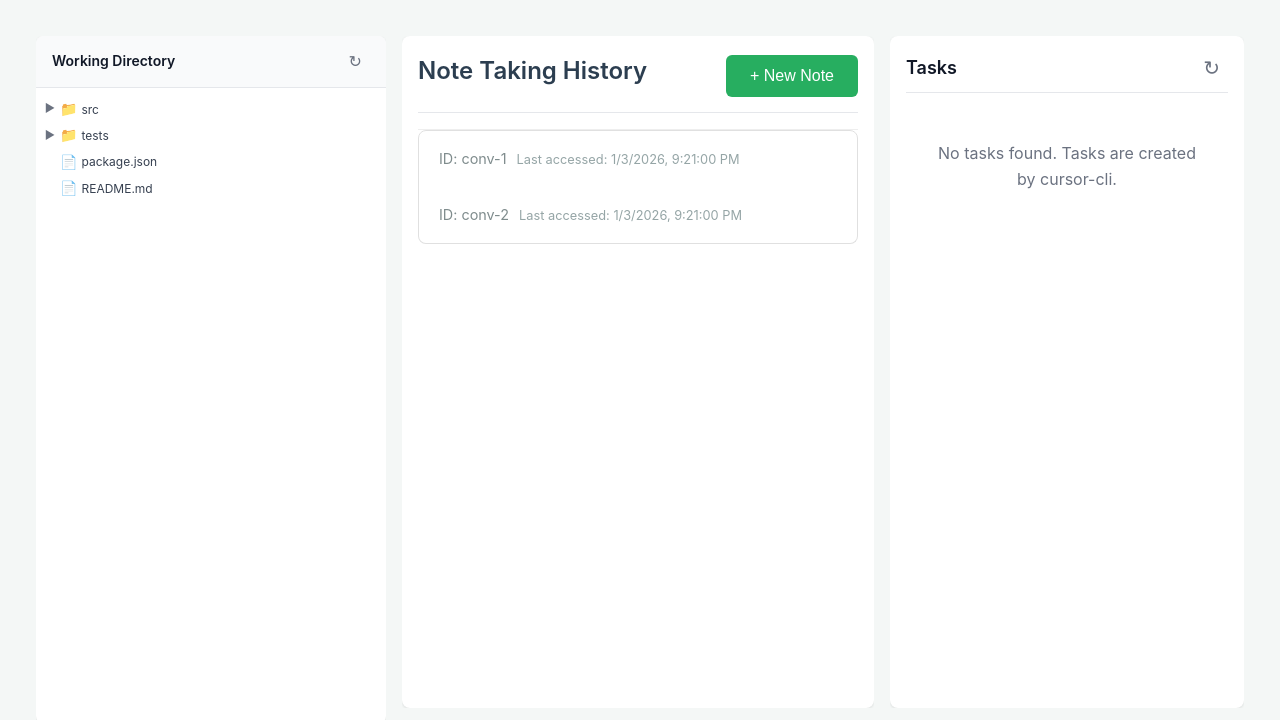
Test case: Working Directory Tree Integration › top-level directories are initially expanded
Click the button "▶ 📁 src": (72, 109) [44,96,99,122]
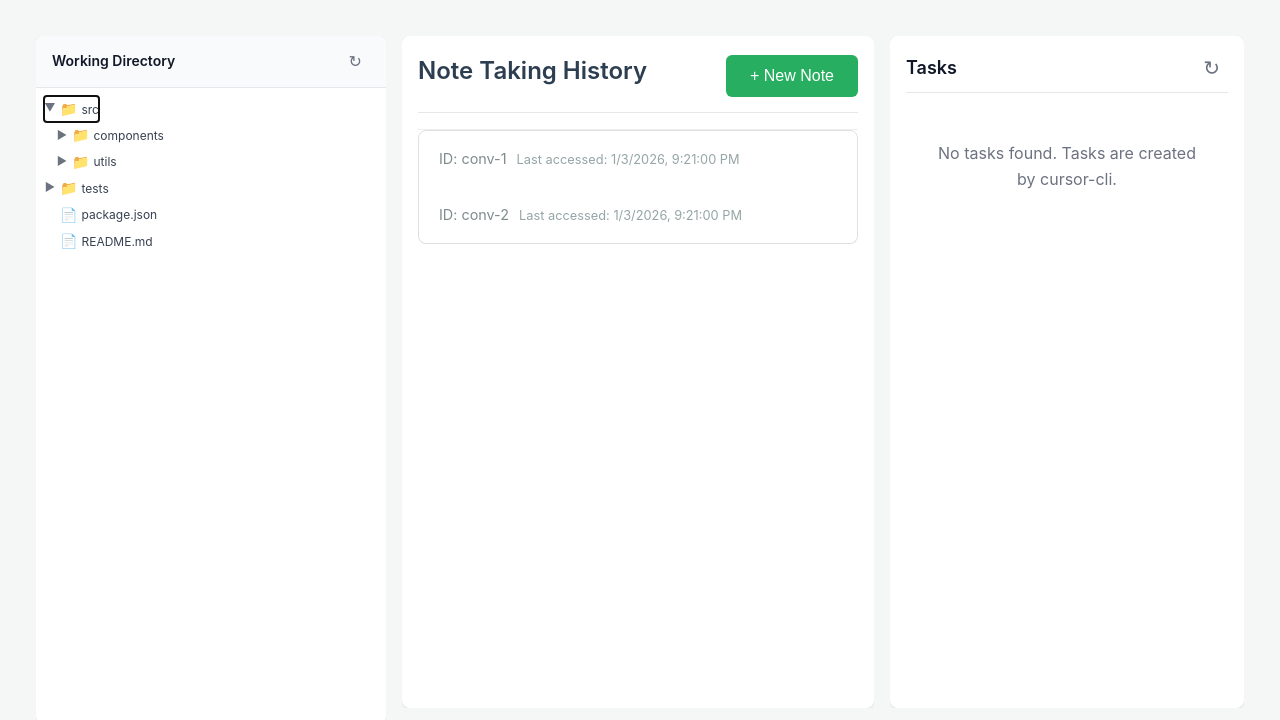
Now the text "components" is shown, box [94,126,164,145]
Now the text "utils" is shown, box [94,152,117,172]
